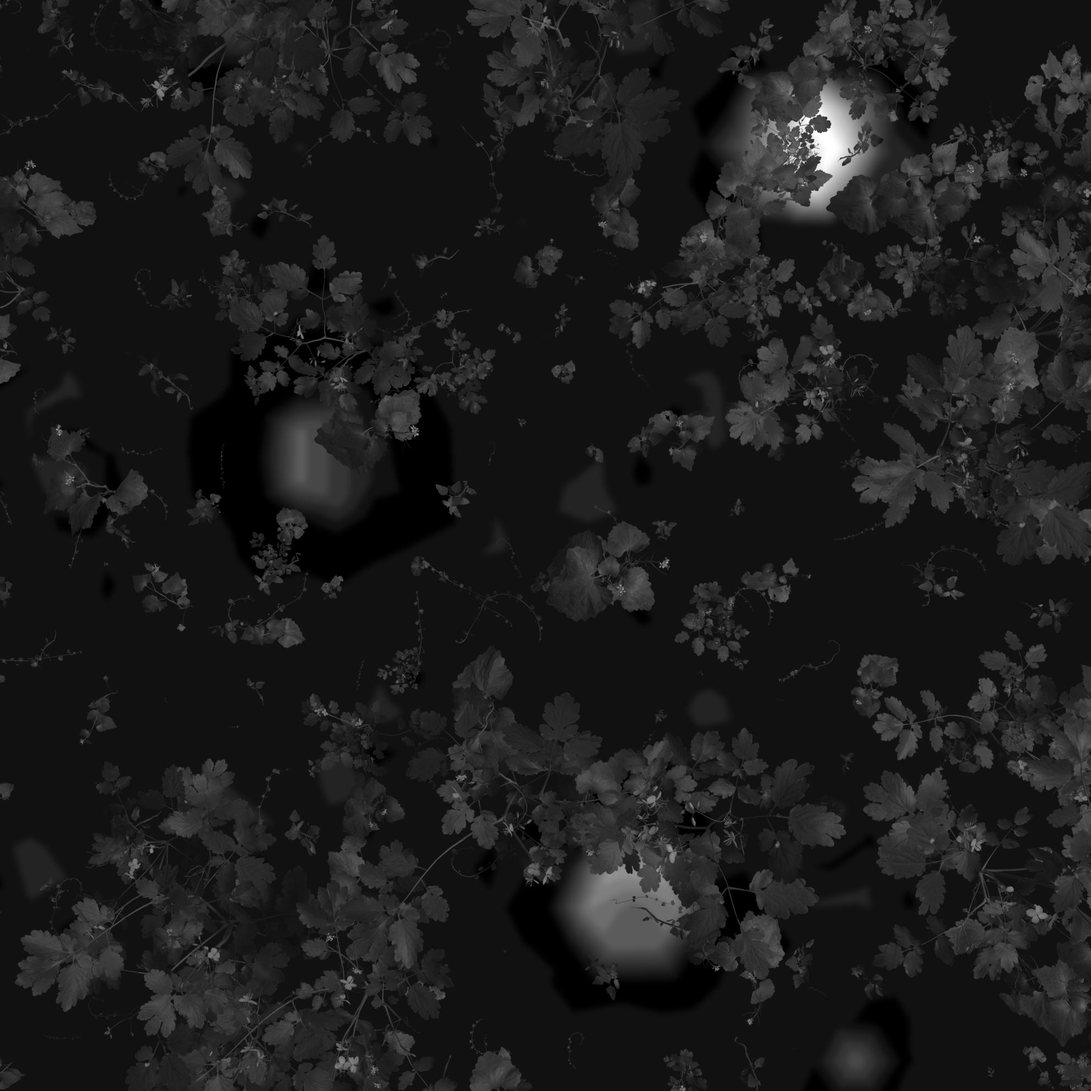landmine: (545, 813, 719, 978), (729, 60, 885, 223), (252, 393, 385, 529)
